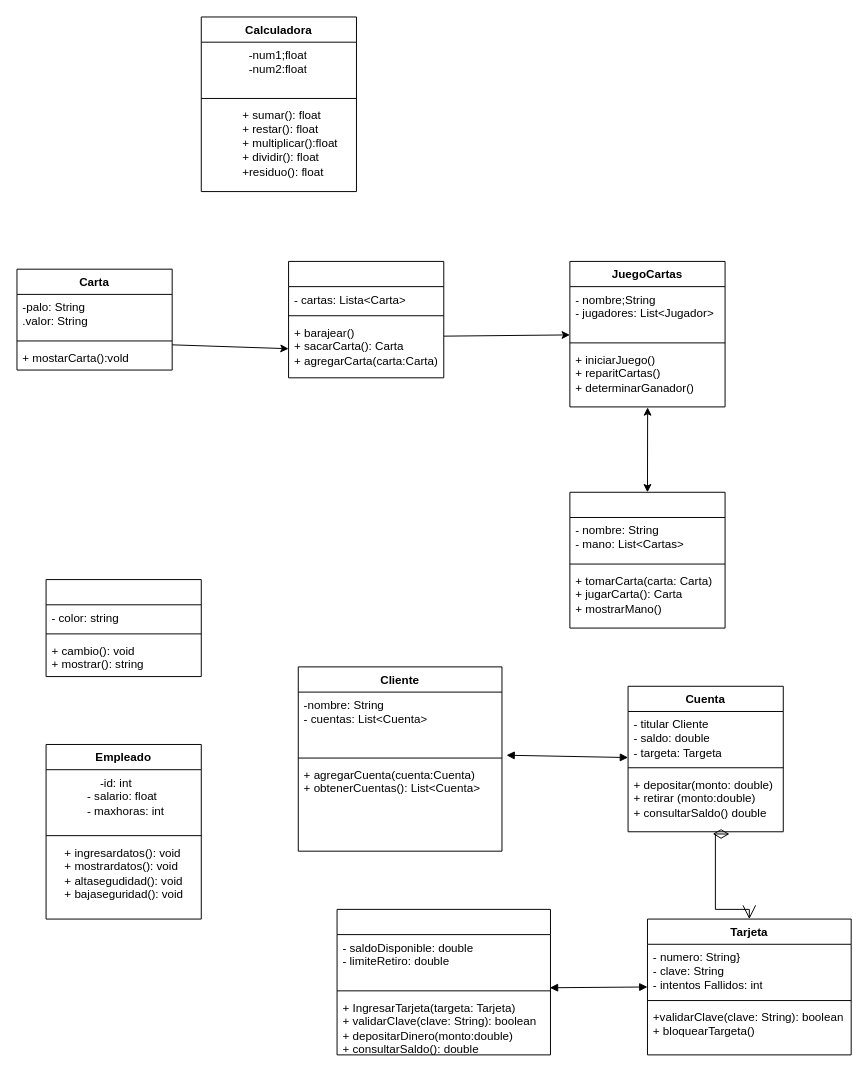
This 868x1075 diagram has some shape labels left out. Here are the shapes that lost their labels. From the top down, the box of each, then its label:
(288, 260, 444, 378): Mazo
(569, 491, 725, 628): Jugador
(45, 579, 201, 677): Luz
(336, 908, 550, 1055): Cajero
